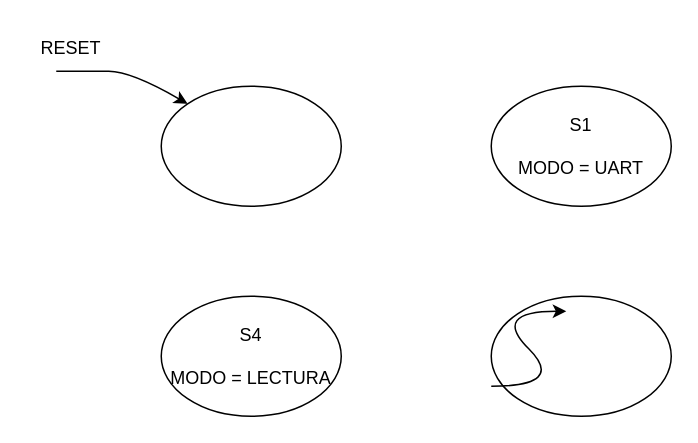
Image size: 698x443. Some labels were removed from this diagram. The shapes that lost their labels are listed below. From the top down, each one's box as (x1, y1, x2, y2) in pixels, then its label:
(160, 85, 341, 206): S0 MODO = MANUAL
(490, 295, 671, 416): S2 MODO = ESCRITURA
